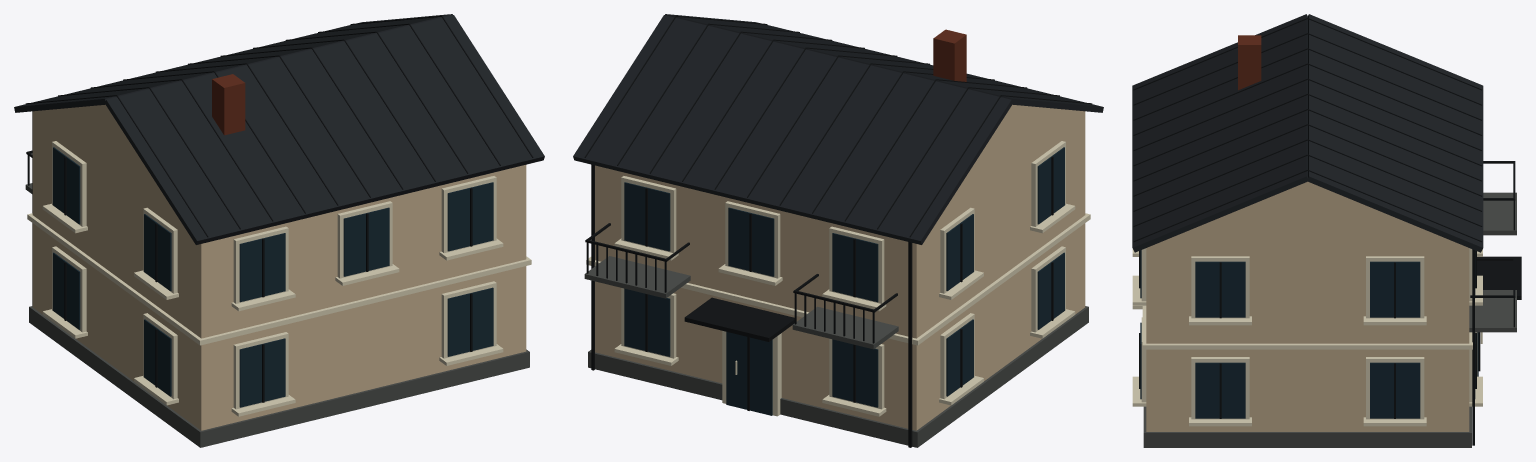
The model's file is 15_SandTownhouse.obj.
3 renders of one model, left to right at view 1: azimuth 30°, elevation 25°; view 2: azimuth 150°, elevation 25°; view 3: azimuth 270°, elevation 25°, orthographic. The views are drawn at different scales.
Parts seen in each view (by area): view 1: Sand, Roof, Glass, Trim, Base, Metal, Brick; view 2: Roof, Sand, Glass, Trim, Metal, Base, Brick; view 3: Roof, Sand, Glass, Metal, Trim, Base, Brick.
Boxes of the visible parts, x1,y1,x2,y2 form: Sand: (32,104,526,430); Roof: (14,14,544,244); Glass: (53,147,493,407); Trim: (27,141,531,416); Base: (25,183,529,447); Metal: (25,15,533,402); Brick: (212,74,245,135); Roof: (573,14,1103,244); Sand: (595,104,1085,430); Glass: (624,147,1064,415); Trim: (586,141,1090,416); Metal: (584,15,1092,447); Base: (584,256,1088,447); Brick: (933,29,966,81); Roof: (1132,14,1483,252); Sand: (1146,181,1469,431); Glass: (1140,250,1478,418); Metal: (1133,18,1521,445); Trim: (1132,248,1482,426); Base: (1143,192,1516,447); Brick: (1238,35,1261,90).
Bounding box in the file's own units: 10.76 × 9 × 10.83.
